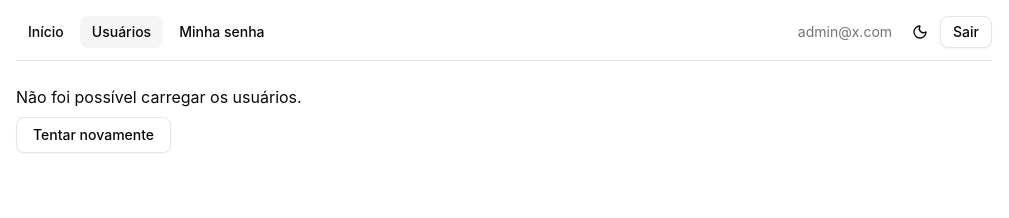
Test case: UsersList on /users › shows error and retries
This screenshot has width=1009, height=218.
Expected: the text "Não foi possível carregar os usuários." is shown, [16,87,302,107]
Click the button "Tentar novamente" at (94, 135), box [16,117,171,153]
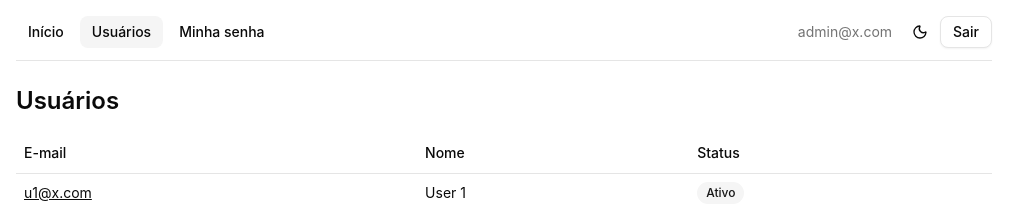
Expected: the link "u1@x.com" is shown, [24,184,92,200]
